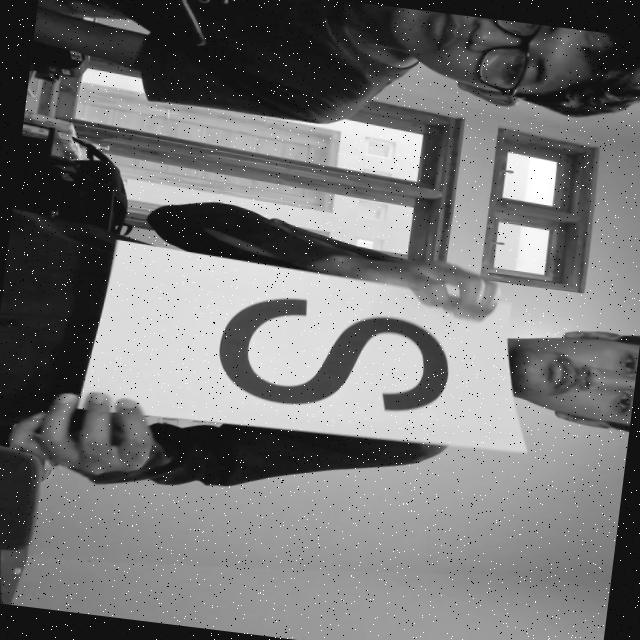s: (174, 272, 466, 440)
